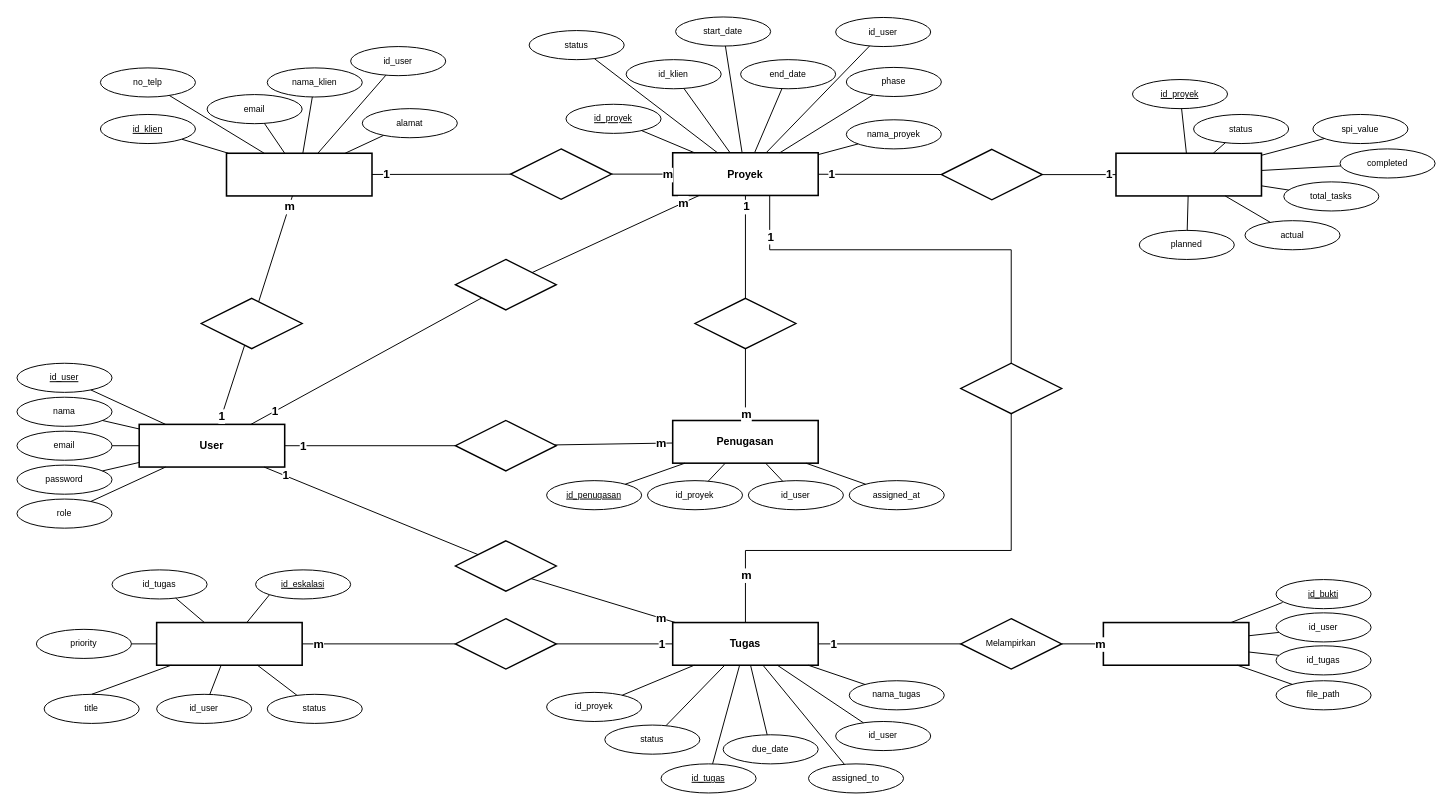
This 1452x810 diagram has some shape labels left out. The centre of each missing label's shape, as x and y in pixels:
Bukti: point 1175,643
Dipantau: point 991,174
Eskalasi: point 228,643
Kesehatan Proyek: point 1188,174
Klien: point 298,174
Membuat: point 505,284
Memesan: point 561,174
Memicu: point 505,643
Memuat: point 745,323
Mencakup: point 1011,388
Menerima: point 505,445
Mengelola: point 251,323
Mengerjakan: point 505,565
